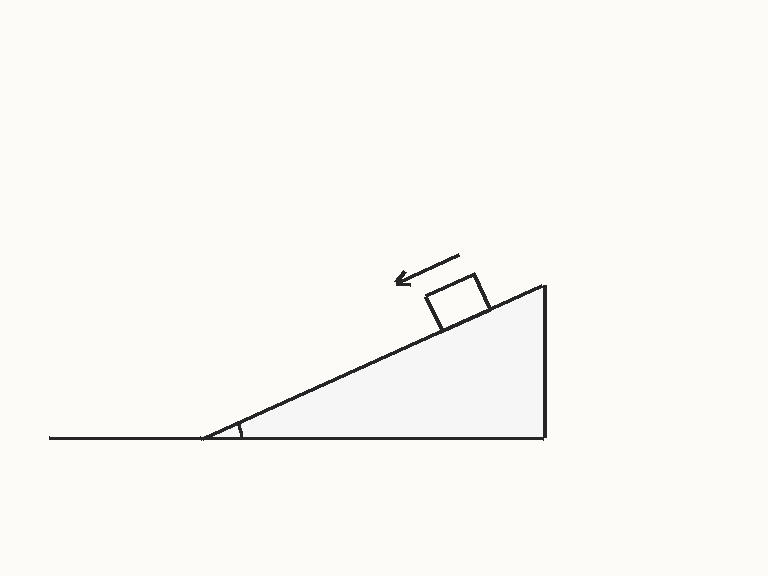block: (423, 272, 492, 333)
ramp: (199, 283, 546, 440)
